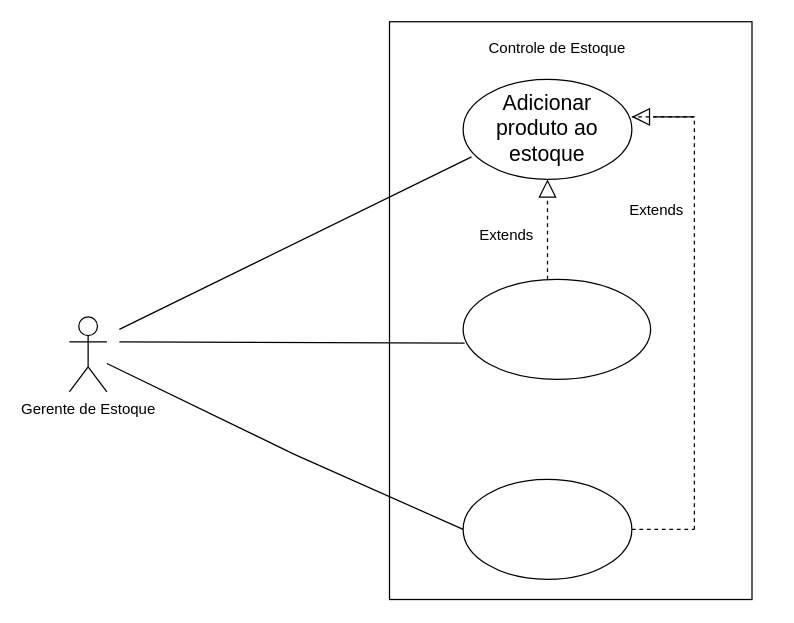
Some shapes in this 794 by 623 pixel diagram are drawn without their labels. The centre of each missing label's shape, as x and y in pixels:
"Atualizar quantidade do produto" goes at (x=556, y=328).
"Remover produto do estoque" goes at (x=547, y=528).
